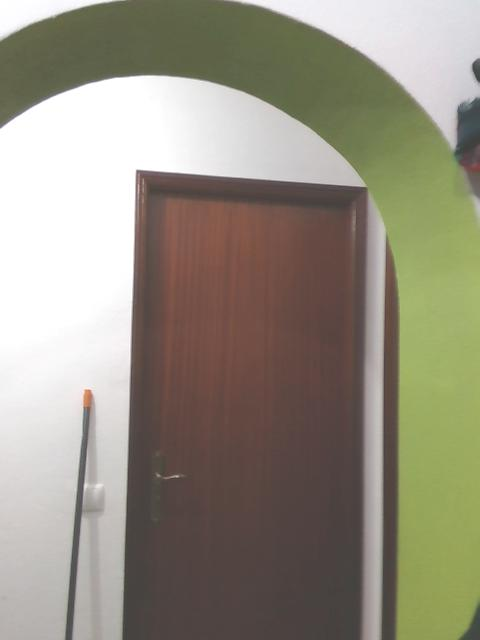closed_door: (122, 167, 367, 638)
